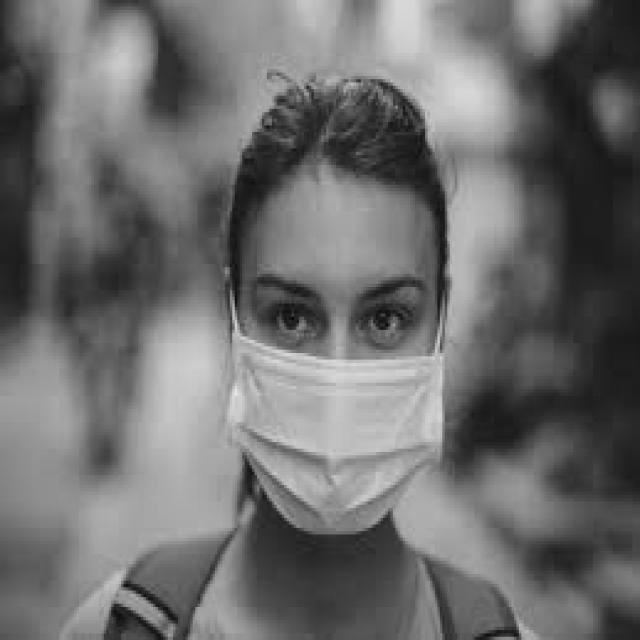fake: (219, 329, 453, 543)
real: (235, 163, 448, 547)
